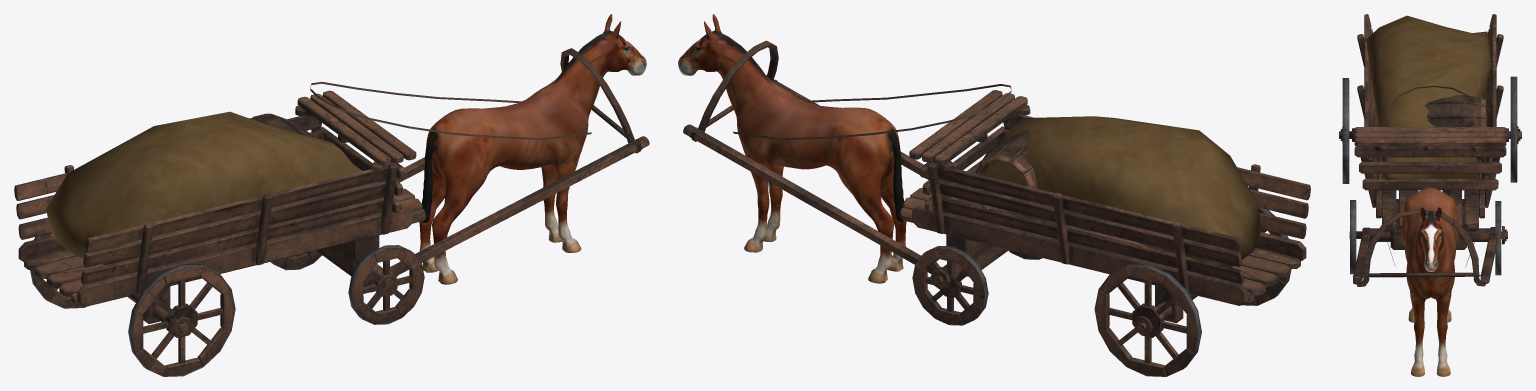
The model's file is HorseCartComp.glb.
The picture shows the model from 3 angles, left to right: view 1: azimuth 30°, elevation 25°; view 2: azimuth 150°, elevation 25°; view 3: azimuth 270°, elevation 25°; orthographic projection. The views are drawn at different scales.
Visible parts, largest first — view 1: Barrel_body_Wood_0, Object_2, Wheel_LF_Metal_0, Reins_Wood2_0; view 2: Barrel_body_Wood_0, Object_2, Wheel_LF_Metal_0, Reins_Wood2_0; view 3: Barrel_body_Wood_0, Object_2, Wheel_LF_Metal_0, Reins_Wood2_0.
Part boxes in pixels (box(x1,y1,x2,y2)): Barrel_body_Wood_0: box(14, 48, 649, 375); Object_2: box(419, 14, 646, 284); Wheel_LF_Metal_0: box(30, 235, 424, 376); Reins_Wood2_0: box(310, 82, 591, 139); Barrel_body_Wood_0: box(683, 40, 1310, 376); Object_2: box(678, 14, 906, 283); Wheel_LF_Metal_0: box(912, 208, 1291, 376); Reins_Wood2_0: box(733, 84, 1011, 140); Barrel_body_Wood_0: box(1339, 14, 1521, 286); Object_2: box(1401, 187, 1458, 376); Wheel_LF_Metal_0: box(1342, 76, 1516, 275); Reins_Wood2_0: box(1383, 85, 1479, 266).
Bounding box in the file's own units: 50.05 × 17.17 × 15.06.
4 materials, 4 textured.
